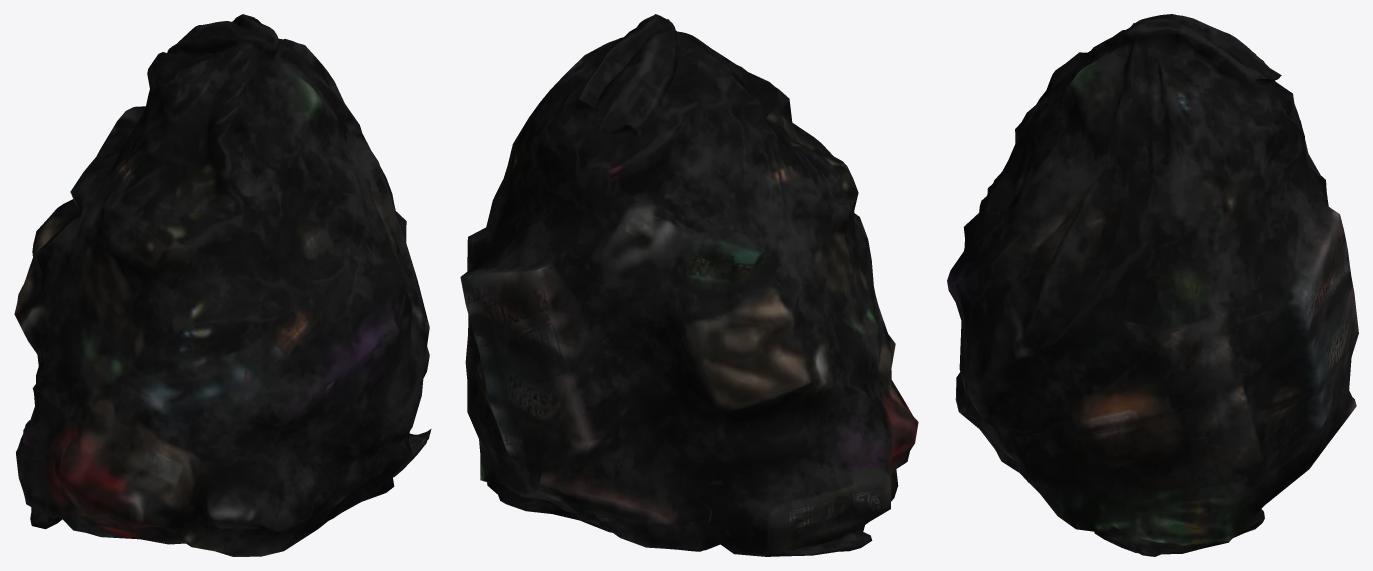
File: trashbag.gltf
3 views of the same model, side by side, from view 1: azimuth 30°, elevation 25°; view 2: azimuth 150°, elevation 25°; view 3: azimuth 270°, elevation 25° (orthographic). The views are drawn at different scales.
Visible parts, largest first — view 1: trashbag; view 2: trashbag; view 3: trashbag.
Part boxes in pixels (x1,y1,x2,y2): trashbag: (14, 14, 431, 556); trashbag: (460, 14, 918, 556); trashbag: (947, 14, 1358, 556).
Bounding box in the file's own units: 0.5281 × 0.575 × 0.4629.
1 material, 1 textured.
